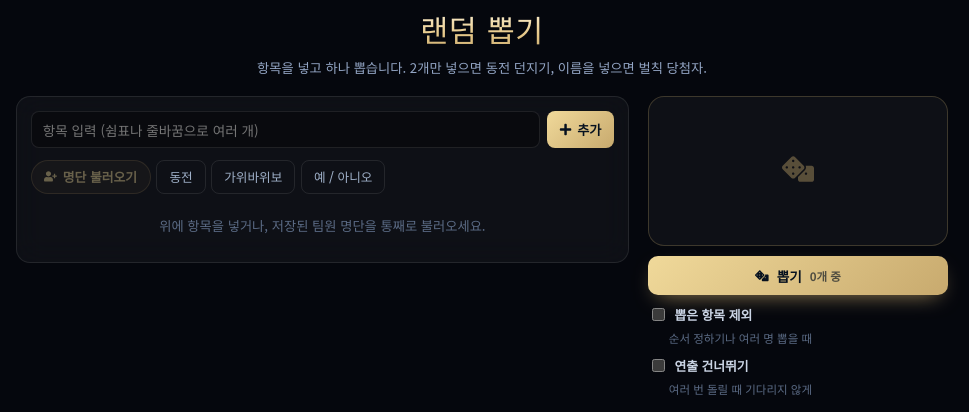
Test case: 연출 설정은 다시 들어와도 유지된다 (도구 공용)
Click the checkbox labelled "연출 건너뛰기 여러 번 돌릴 때 기다리지 않게". click: (658, 365)
box: [652,359,665,372]
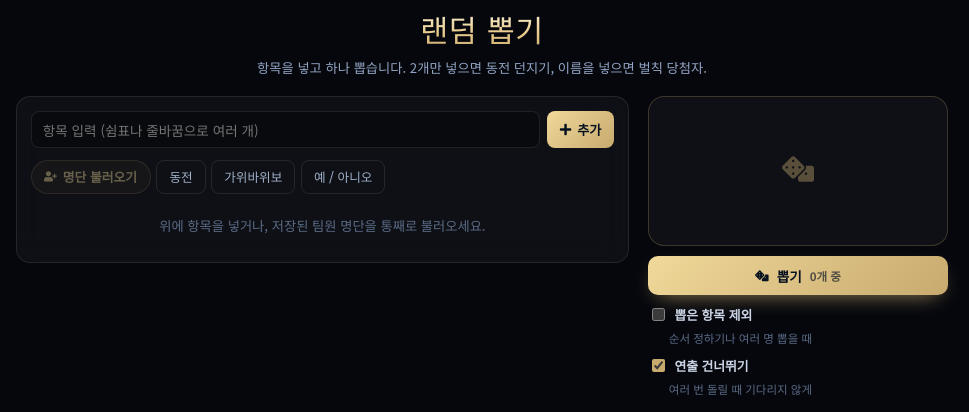
Check: the checkbox labelled "연출 건너뛰기 여러 번 돌릴 때 기다리지 않게" is checked, box [652,359,665,372]
